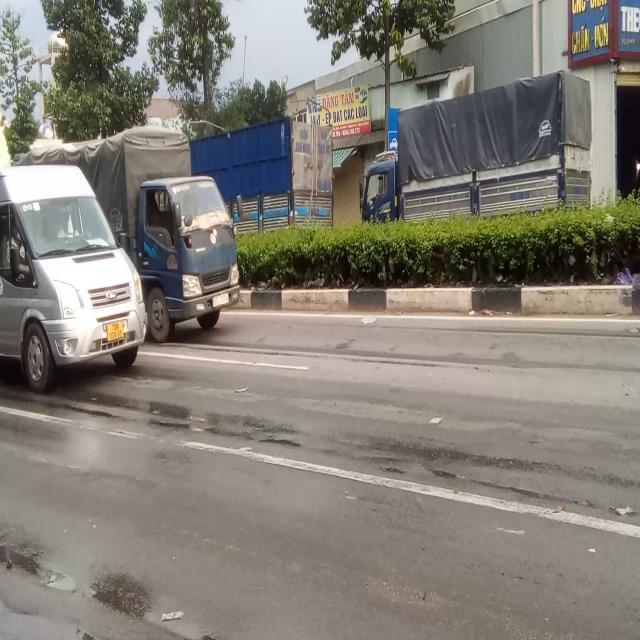bien_trang: (210, 294, 230, 310)
bien_vang: (105, 319, 124, 346)
